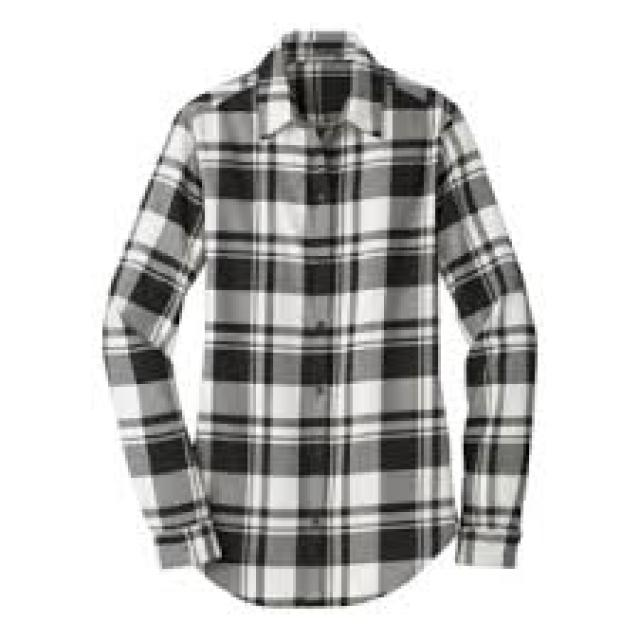plaid: (96, 27, 537, 607)
